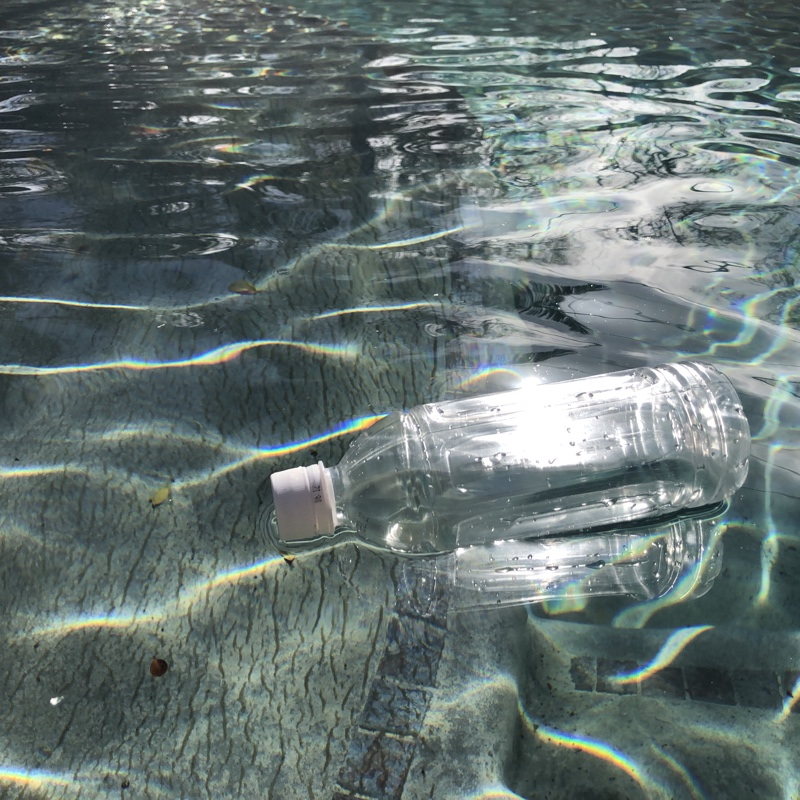Plastic Bottle: (266, 354, 755, 577)
